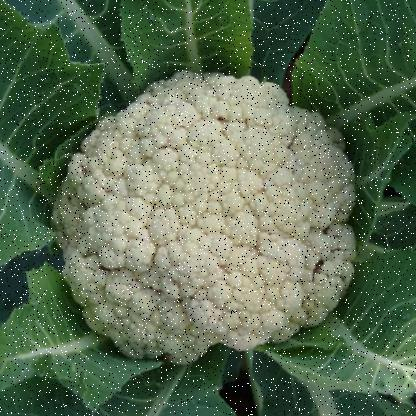cauliflower: (35, 62, 375, 340)
